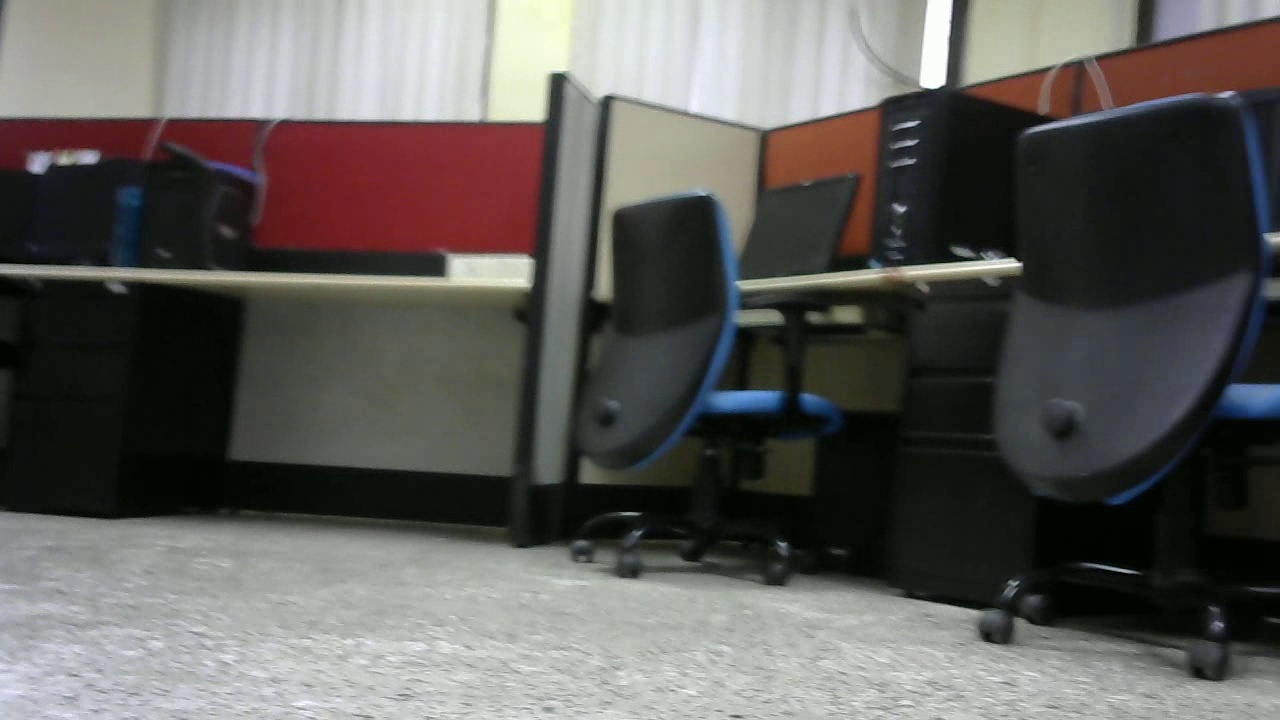chair: (992, 84, 1280, 704), (569, 192, 843, 585)
